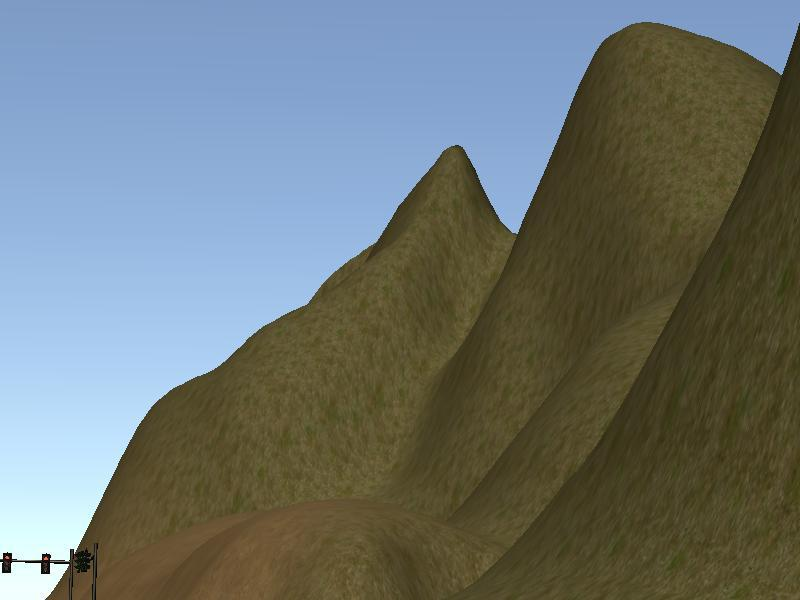Red: (39, 552, 50, 575), (1, 552, 12, 573)
